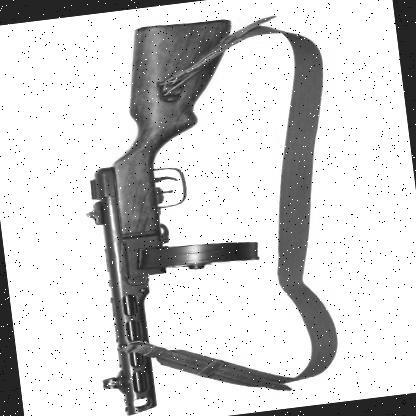rifle: (57, 13, 292, 416)
